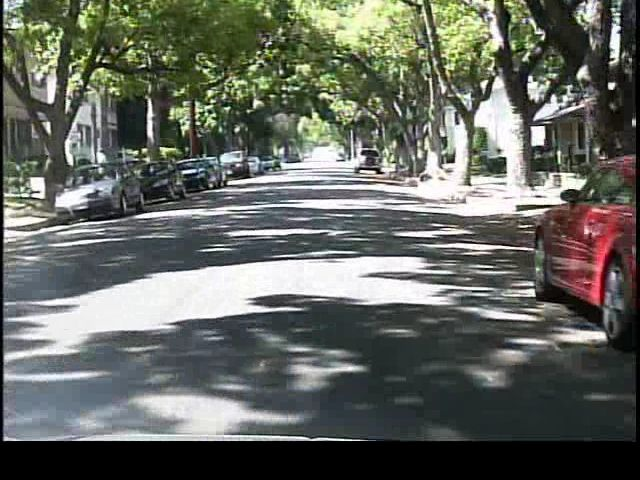person: (87, 144, 112, 196)
